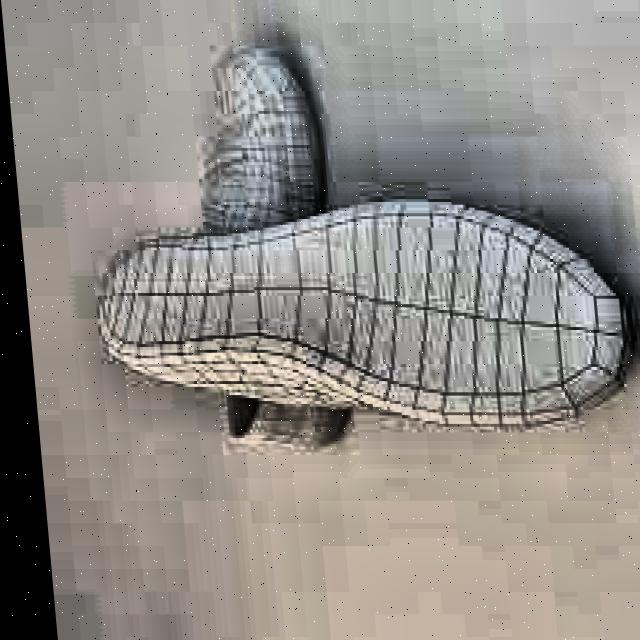shoes: (54, 34, 640, 544)
